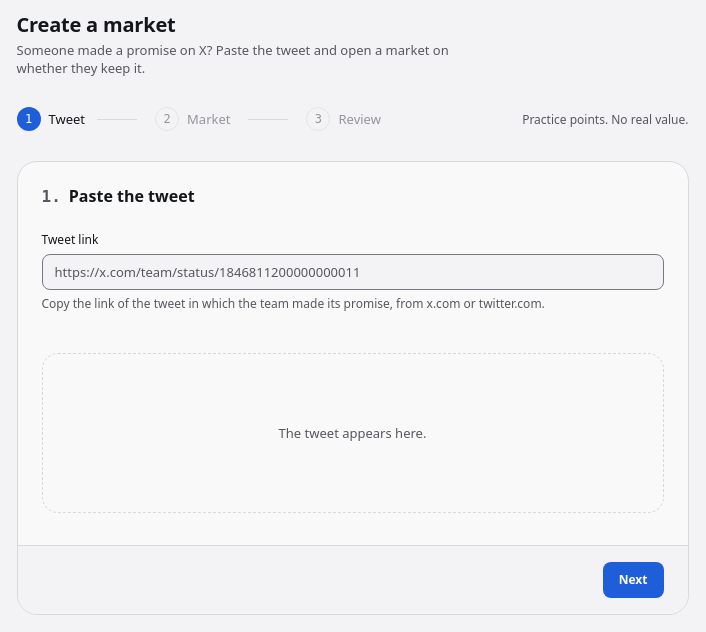
Test: create wizard: tweet step › asks for a link when Next is pressed on an empty form
This screenshot has width=706, height=632.
Click the button "Next": (633, 580) [603,562,664,598]
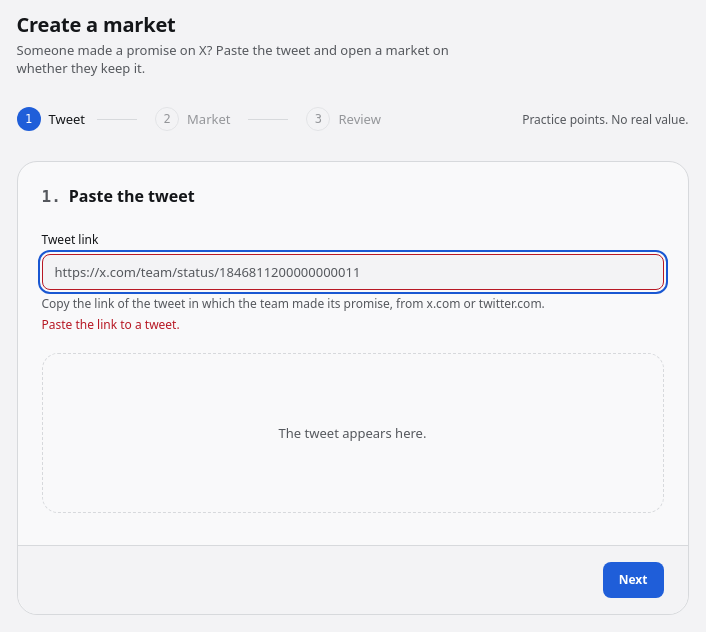
Expected: the heading "1.Paste the tweet" is shown, [42,185,195,207]
Expected: the text "Paste the link to a tweet." is shown, [42,316,180,333]
